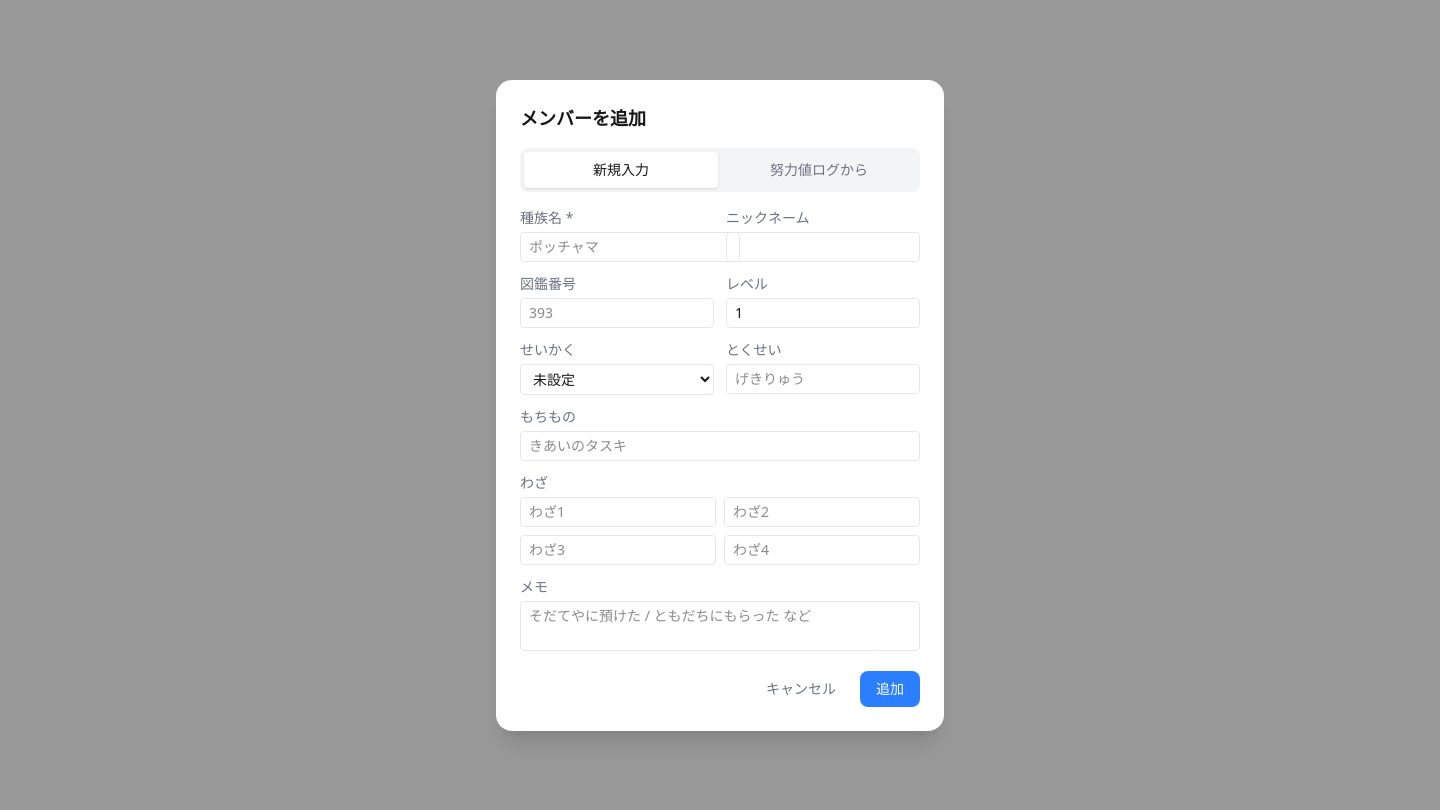
Test: AddPartyMemberModal › log tab with empty entries shows empty message, no form
The width and height of the screenshot is (1440, 810).
Click the button "努力値ログから" at (819, 170), box [722,152,916,188]
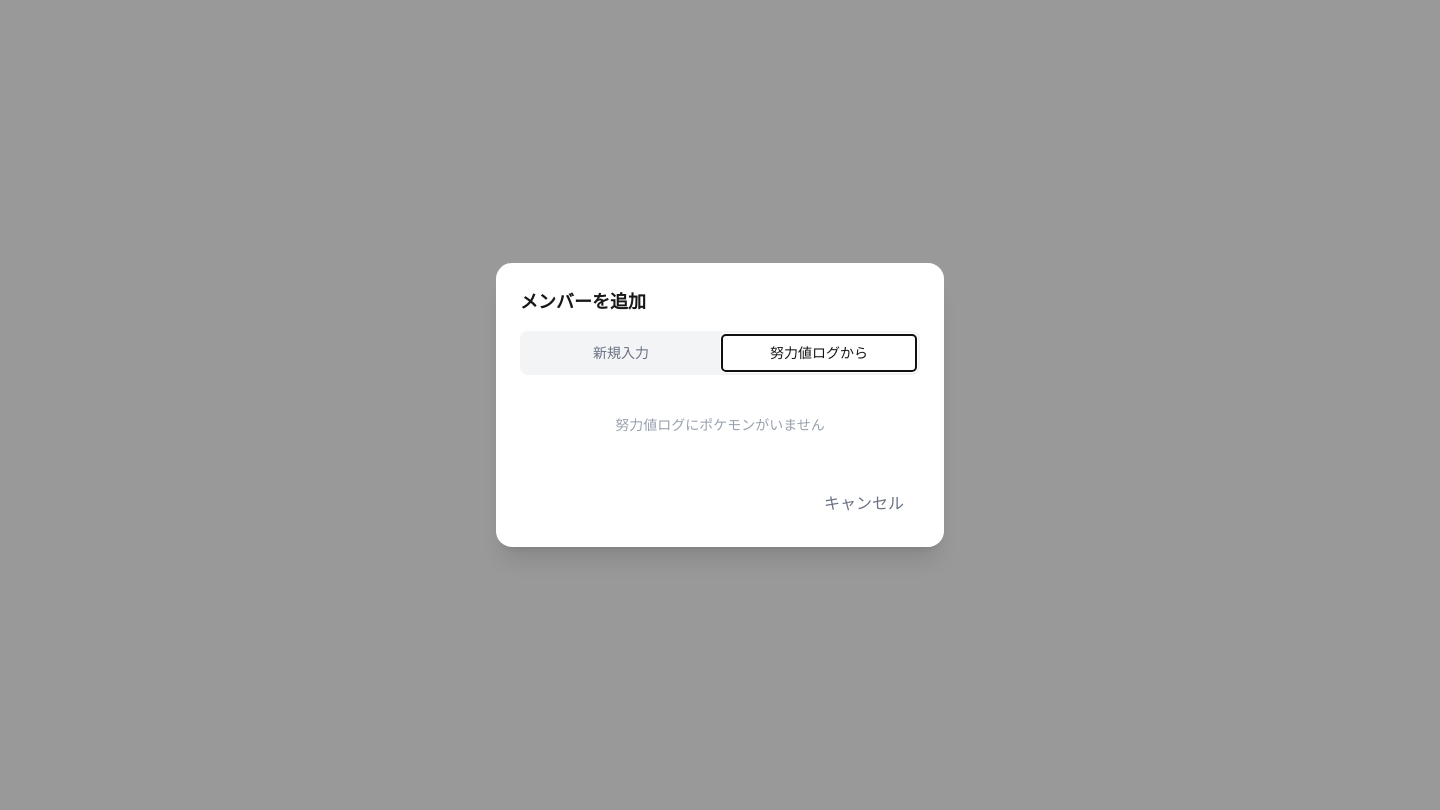
Expected: the text "努力値ログにポケモンがいません" is shown, [615,415,825,434]
Expected: the dropdown with placeholder "ポッチャマ" is gone
